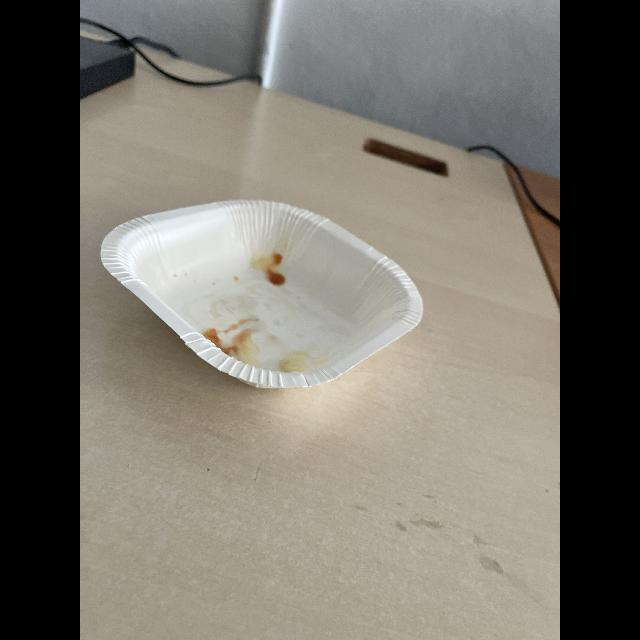cardboard_bowl: (96, 176, 434, 410)
